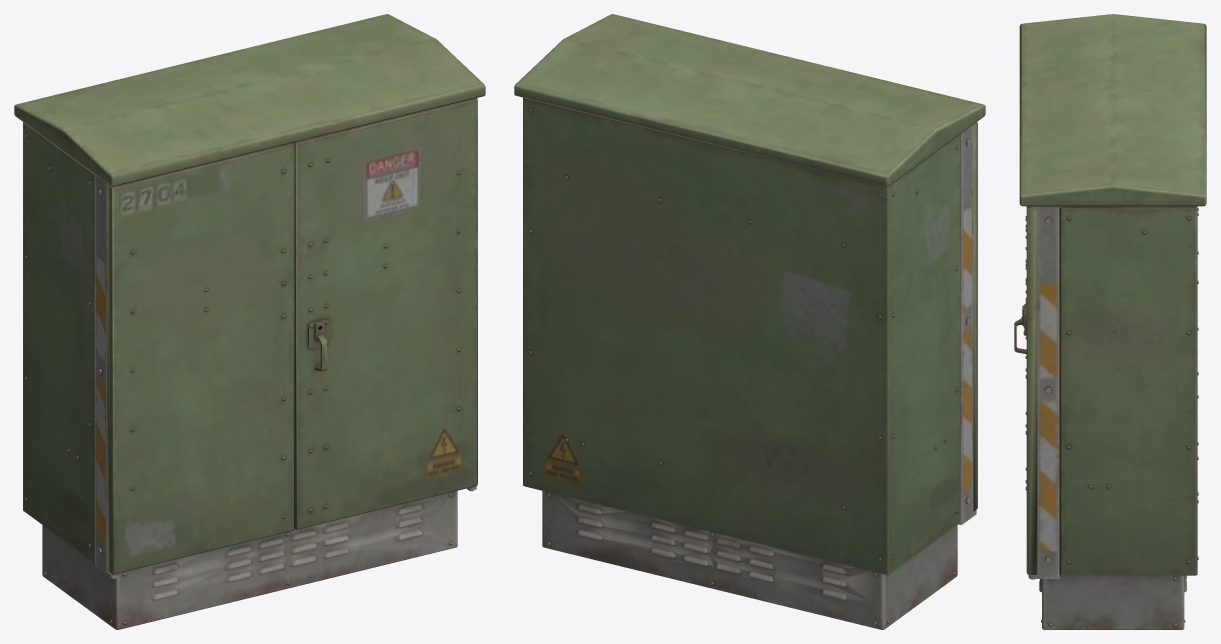
The model's file is armoire_electrique_lod0.glb.
The picture shows the model from 3 angles, left to right: view 1: azimuth 30°, elevation 25°; view 2: azimuth 150°, elevation 25°; view 3: azimuth 270°, elevation 25°; orthographic projection. The views are drawn at different scales.
Visible parts, largest first — view 1: utility_box_02; view 2: utility_box_02; view 3: utility_box_02.
Boxes of the visible parts, x1,y1,x2,y2 form: utility_box_02: (14, 14, 485, 629); utility_box_02: (514, 14, 985, 629); utility_box_02: (1014, 14, 1206, 629).
Size of the model in its own units: 0.92 by 1.12 by 0.432.
1 material, 1 textured.
